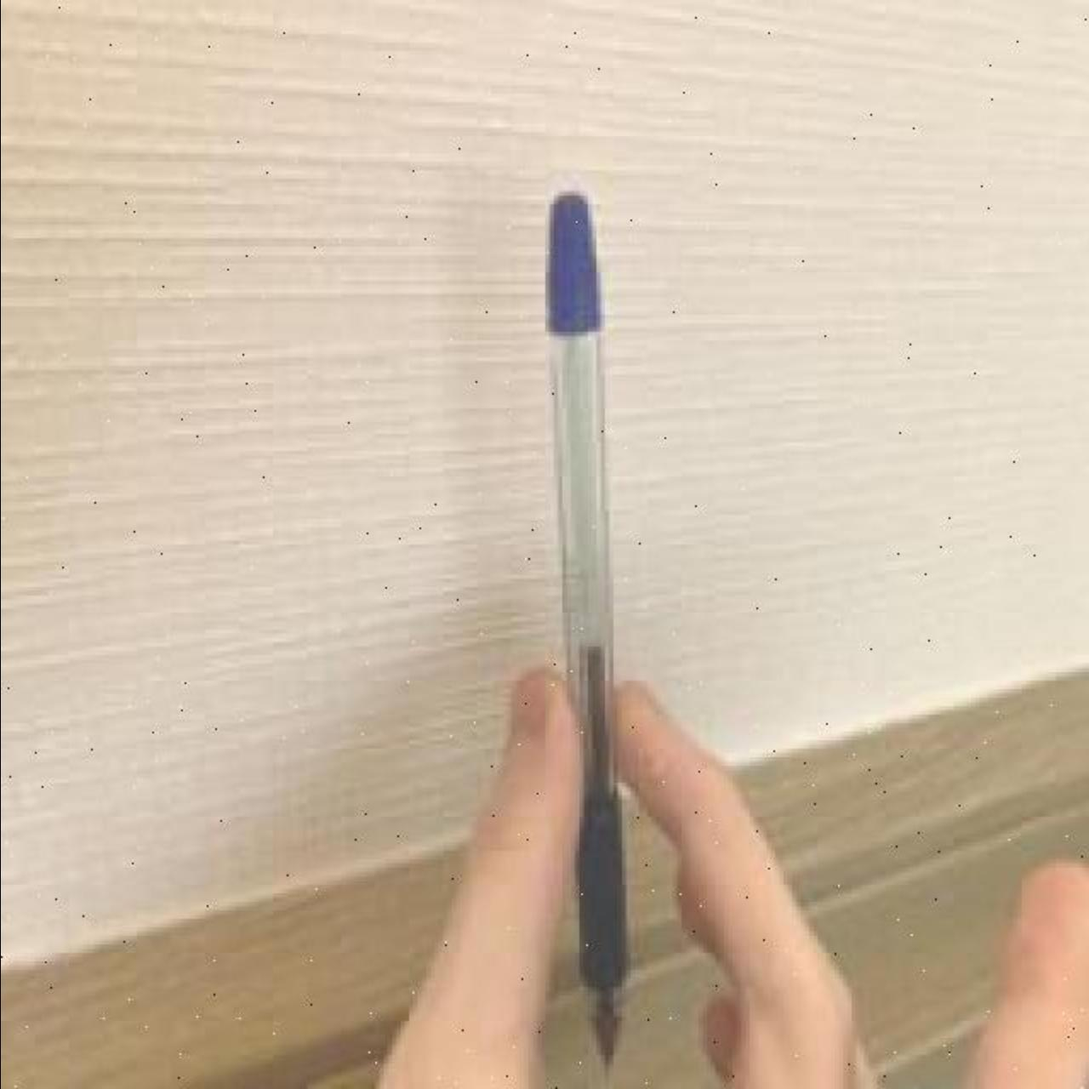pen: (543, 179, 633, 1072)
